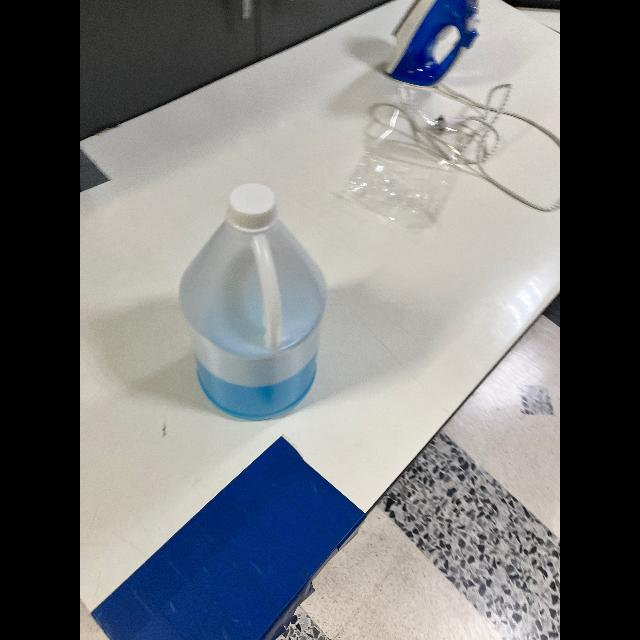chemical_plastic_gallon: (163, 178, 355, 426)
